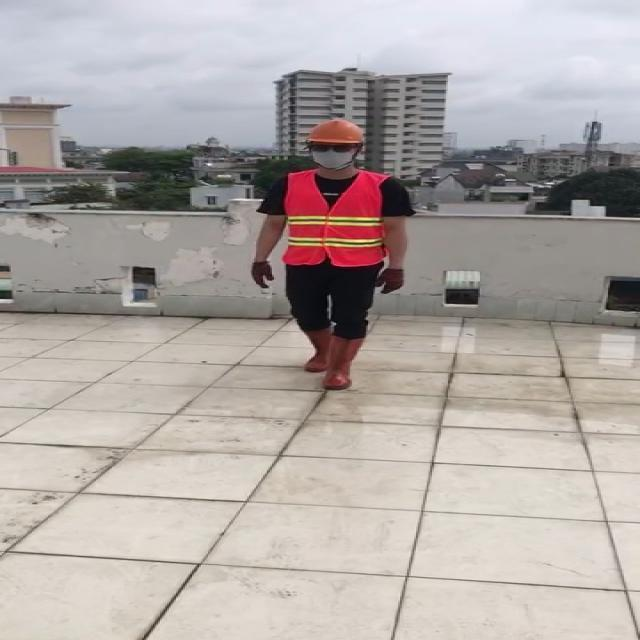helmet: (308, 116, 366, 144)
safety_vest: (279, 171, 391, 266)
